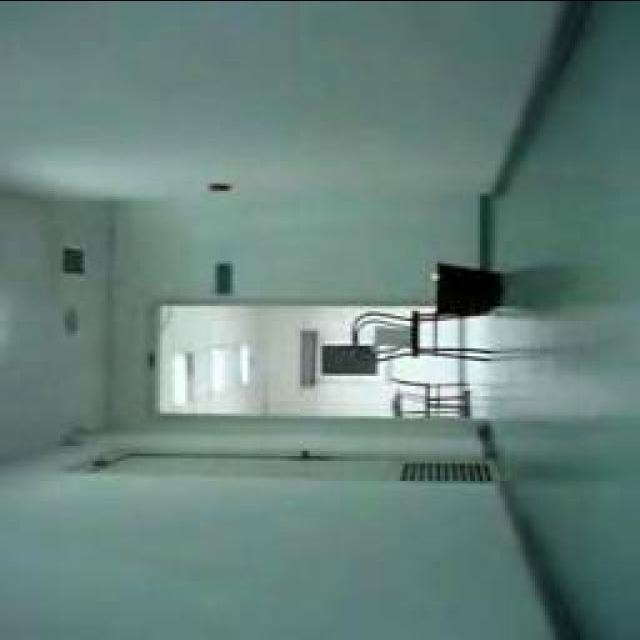Fire: (424, 270, 444, 280)
